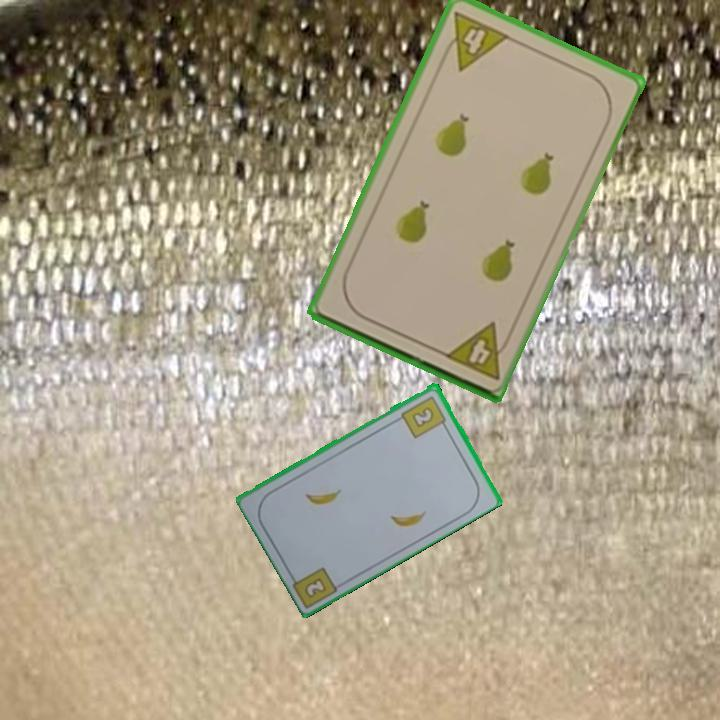2b: (398, 392, 450, 441), (303, 574, 330, 599)
4p: (436, 7, 513, 74), (440, 318, 515, 383)
